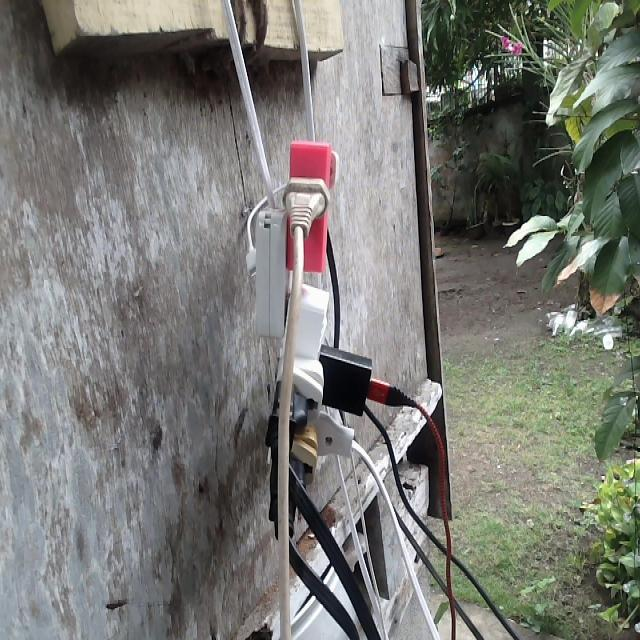-: (253, 136, 407, 536)
